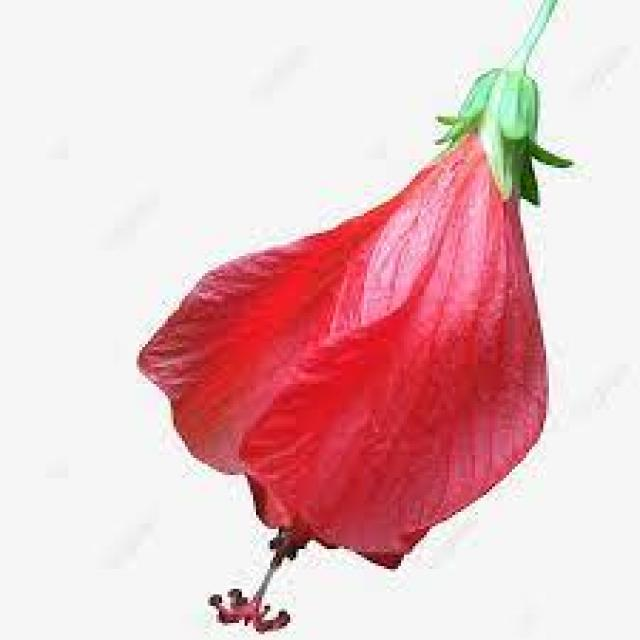Flower: (128, 59, 589, 640)
